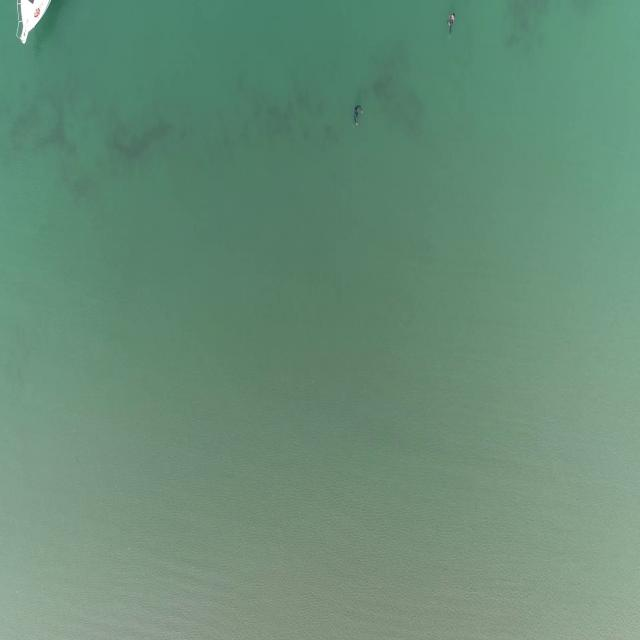person: (351, 104, 365, 127), (446, 12, 458, 36)
